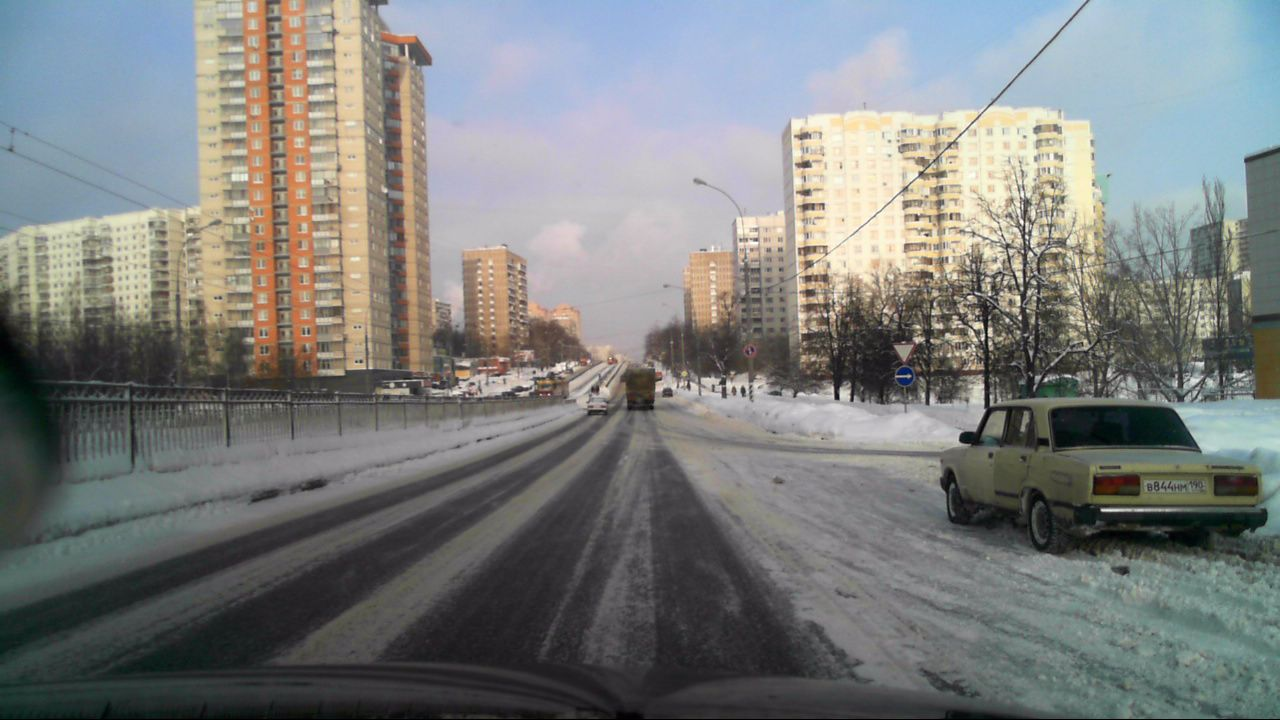Turn Right: (895, 365, 915, 387)
